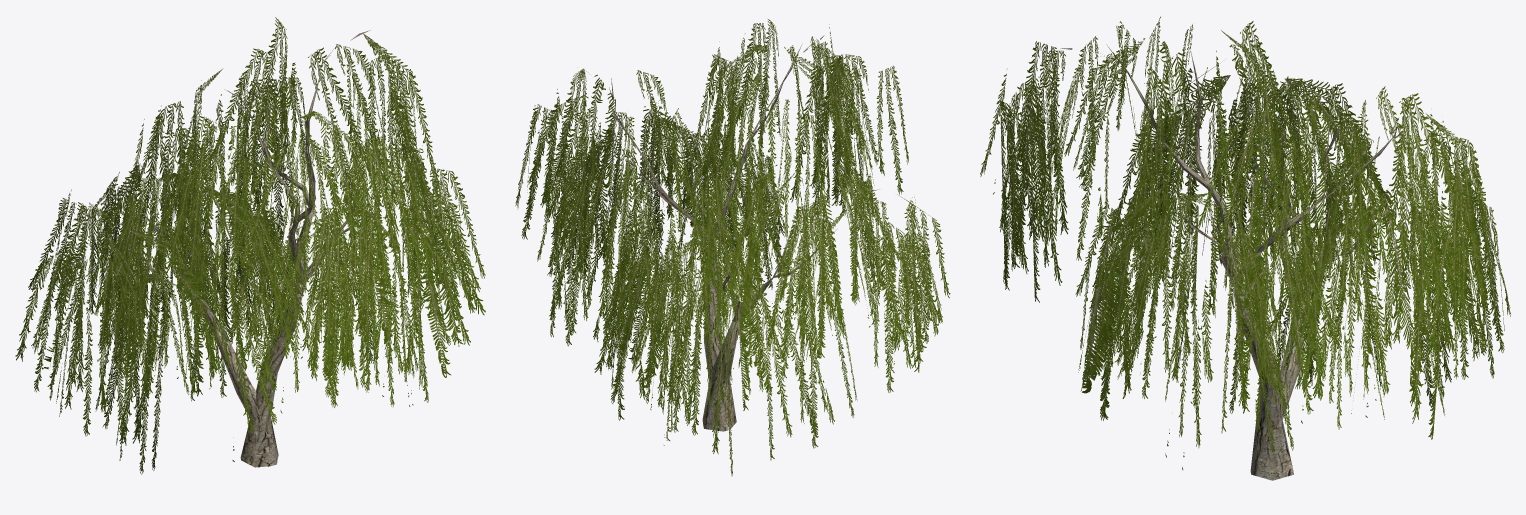
Rendered from cay-lieu.glb.
The picture shows the model from 3 angles, left to right: view 1: azimuth 30°, elevation 25°; view 2: azimuth 150°, elevation 25°; view 3: azimuth 270°, elevation 25°; orthographic projection. The views are drawn at different scales.
Parts seen in each view (by area): view 1: willow branch_1_willow branch_1Mat_0, bark10_0_bark10_0Mat_0; view 2: willow branch_1_willow branch_1Mat_0, bark10_0_bark10_0Mat_0; view 3: willow branch_1_willow branch_1Mat_0, bark10_0_bark10_0Mat_0.
Part boxes in pixels (x1,y1,x2,y2): willow branch_1_willow branch_1Mat_0: [15, 17, 485, 474]; bark10_0_bark10_0Mat_0: [117, 30, 412, 467]; willow branch_1_willow branch_1Mat_0: [515, 19, 950, 476]; bark10_0_bark10_0Mat_0: [586, 35, 879, 431]; willow branch_1_willow branch_1Mat_0: [980, 16, 1510, 469]; bark10_0_bark10_0Mat_0: [1060, 44, 1441, 480].
Bounding box in the file's own units: 0.9965 × 0.8923 × 0.9767.
2 materials, 2 textured.
